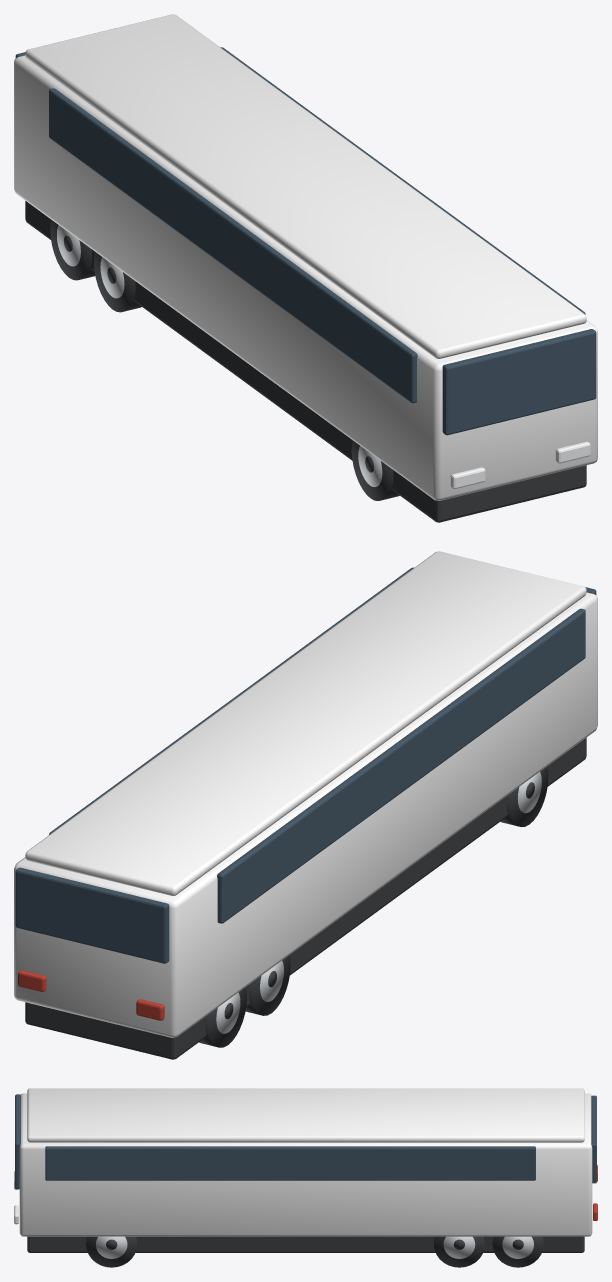
Rendered from bus.glb.
3 views of the same model, one above another, from view 1: azimuth 30°, elevation 25°; view 2: azimuth 150°, elevation 25°; view 3: azimuth 270°, elevation 25° (orthographic). The views are drawn at different scales.
Parts seen in each view (by area): view 1: roofcap, body, sidewin, wind_f, skirt, tire, tire.001, tire.002, sidewin.001; view 2: roofcap, body, sidewin, skirt, wind_r, tire.002, tire, tire.001, sidewin.001; view 3: body, roofcap, sidewin.001, skirt, tire.005, tire.003, tire.004, rim.005, rim.004, rim.003, wind_f, wind_r.
Part boxes in pixels (<box>): roofcap: <box>25,14,586,358</box>; body: <box>14,55,597,500</box>; sidewin: <box>49,88,417,403</box>; wind_f: <box>442,329,596,435</box>; skirt: <box>25,201,586,522</box>; tire: <box>351,440,399,500</box>; tire.001: <box>94,252,141,312</box>; tire.002: <box>50,220,95,280</box>; sidewin.001: <box>220,47,585,314</box>; roofcap: <box>25,551,586,895</box>; body: <box>14,592,597,1037</box>; sidewin: <box>217,608,585,923</box>; skirt: <box>25,738,586,1059</box>; wind_r: <box>15,867,169,963</box>; tire.002: <box>199,987,246,1047</box>; tire: <box>500,766,548,826</box>; tire.001: <box>245,955,290,1015</box>; sidewin.001: <box>49,567,413,834</box>; body: <box>19,1093,592,1236</box>; roofcap: <box>27,1088,584,1142</box>; sidewin.001: <box>45,1146,535,1180</box>; skirt: <box>27,1236,584,1252</box>; tire.005: <box>492,1236,543,1267</box>; tire.003: <box>86,1236,137,1267</box>; tire.004: <box>434,1236,484,1267</box>; rim.005: <box>502,1236,533,1258</box>; rim.004: <box>443,1236,475,1258</box>; rim.003: <box>96,1236,127,1258</box>; wind_f: <box>15,1094,20,1189</box>; wind_r: <box>591,1095,596,1183</box>.
Bounding box in the file's own units: 2.66 × 2.79 × 11.42.
